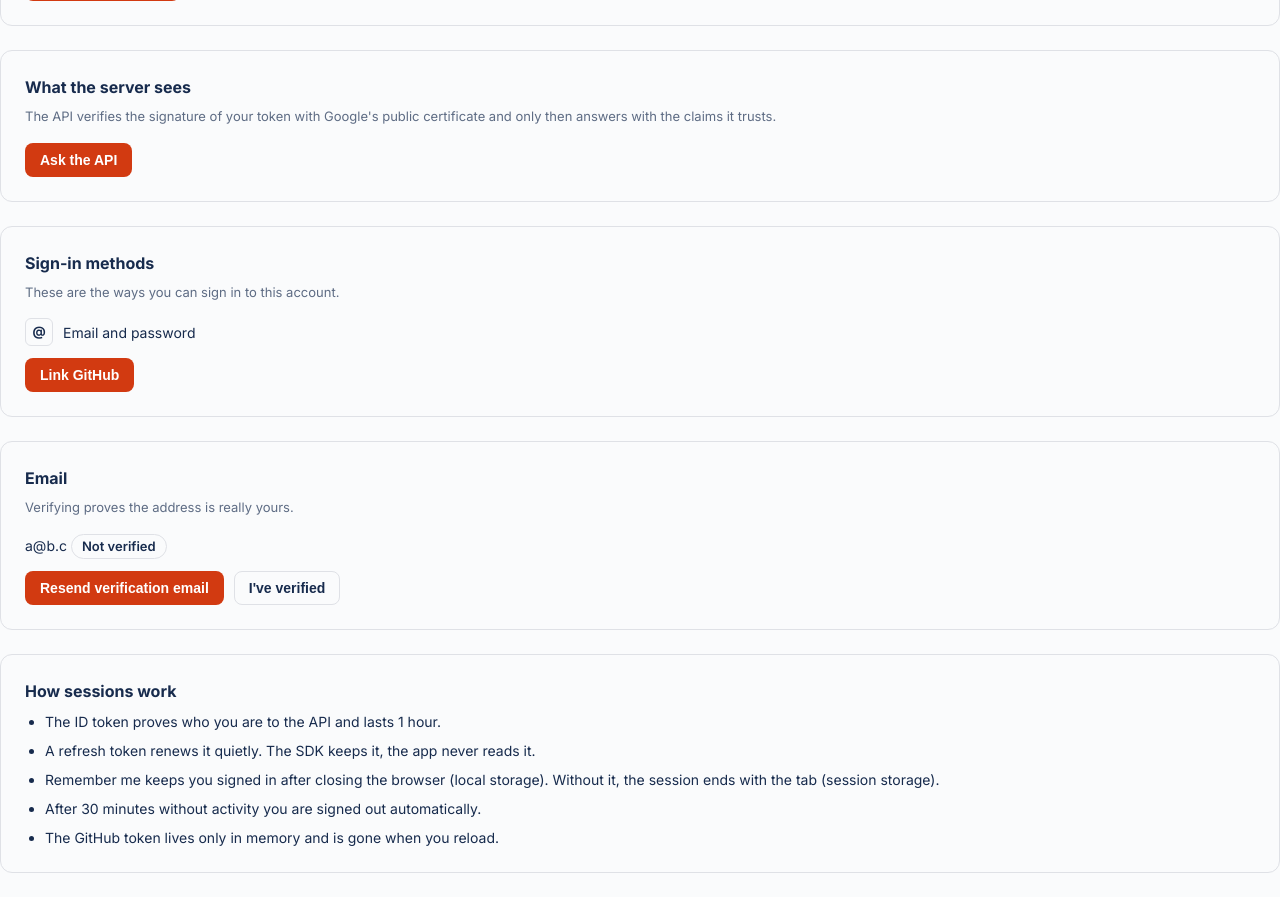
Test: SecurityPanel: Email and sessions › resends the verification email
(page scrolled)
Expected: the text "Not verified" is shown, [71,534,167,559]
What coordinates should you click on to do the following:
click the button "Resend verification email"
I would click on:
 (124, 588)
Its box is [25,571,224,605].
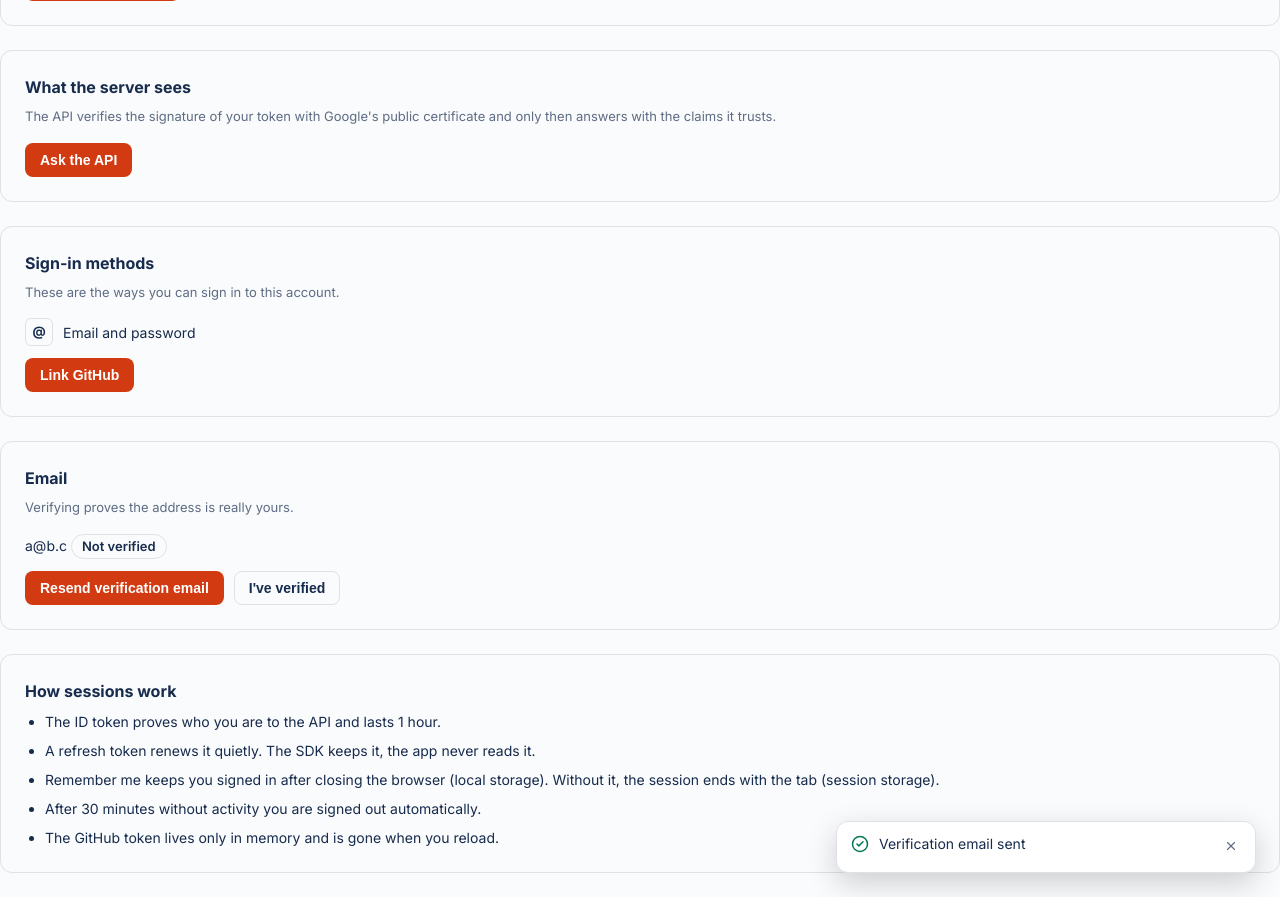
Expected: the text "Verification email sent" is shown, [879,835,1026,852]
